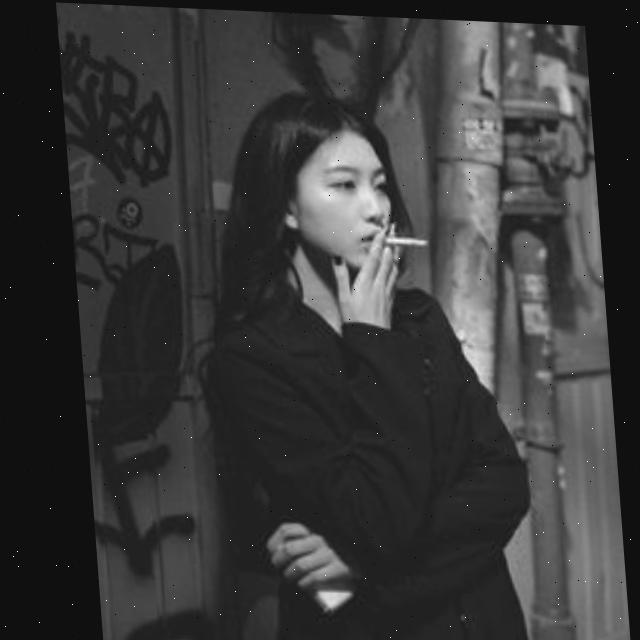cigarette: (385, 232, 425, 243)
